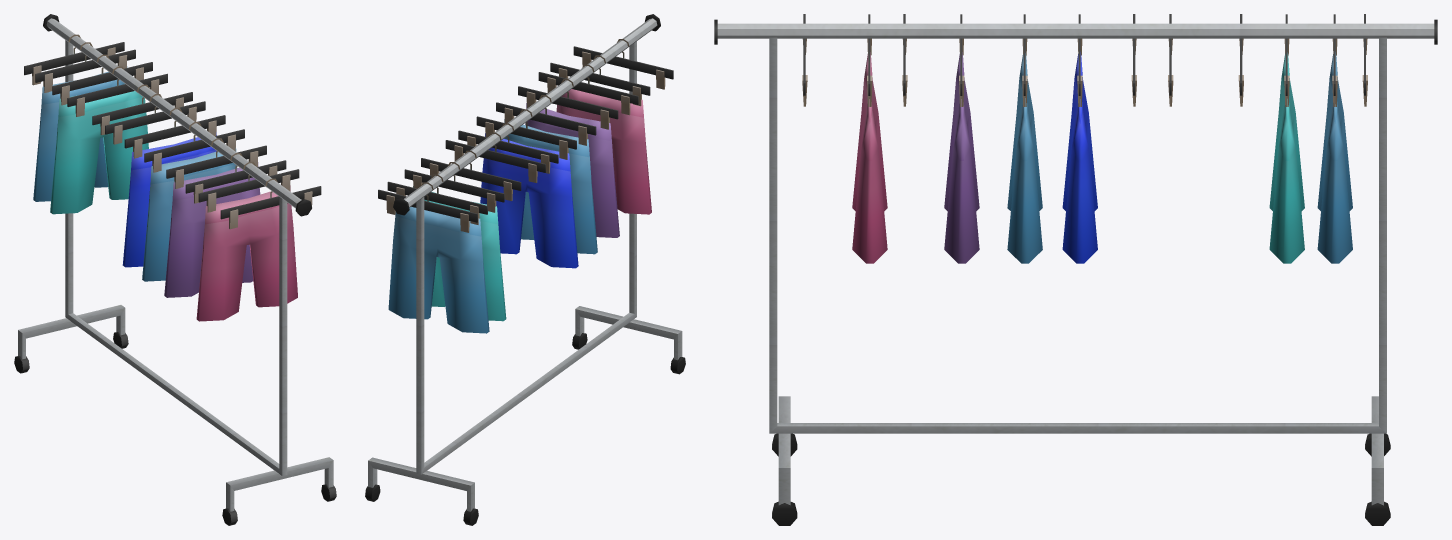
The model's file is Cloth_Rack_05.fbx.
3 views of the same model, side by side, from view 1: azimuth 30°, elevation 25°; view 2: azimuth 150°, elevation 25°; view 3: azimuth 270°, elevation 25° (orthographic). The views are drawn at different scales.
Visible parts, largest first — view 1: Cloth_Rack_05; view 2: Cloth_Rack_05; view 3: Cloth_Rack_05.
Part boxes in pixels (bbox=[...]): Cloth_Rack_05: bbox=[14, 14, 336, 525]; Cloth_Rack_05: bbox=[365, 14, 685, 525]; Cloth_Rack_05: bbox=[714, 14, 1437, 525].
Size of the model in its own units: 0.1637 by 0.4893 by 0.683.
